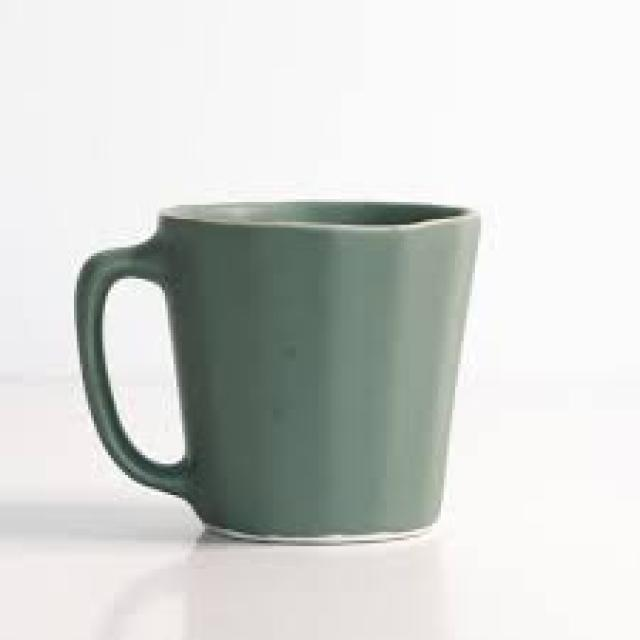taza: (74, 198, 480, 543)
